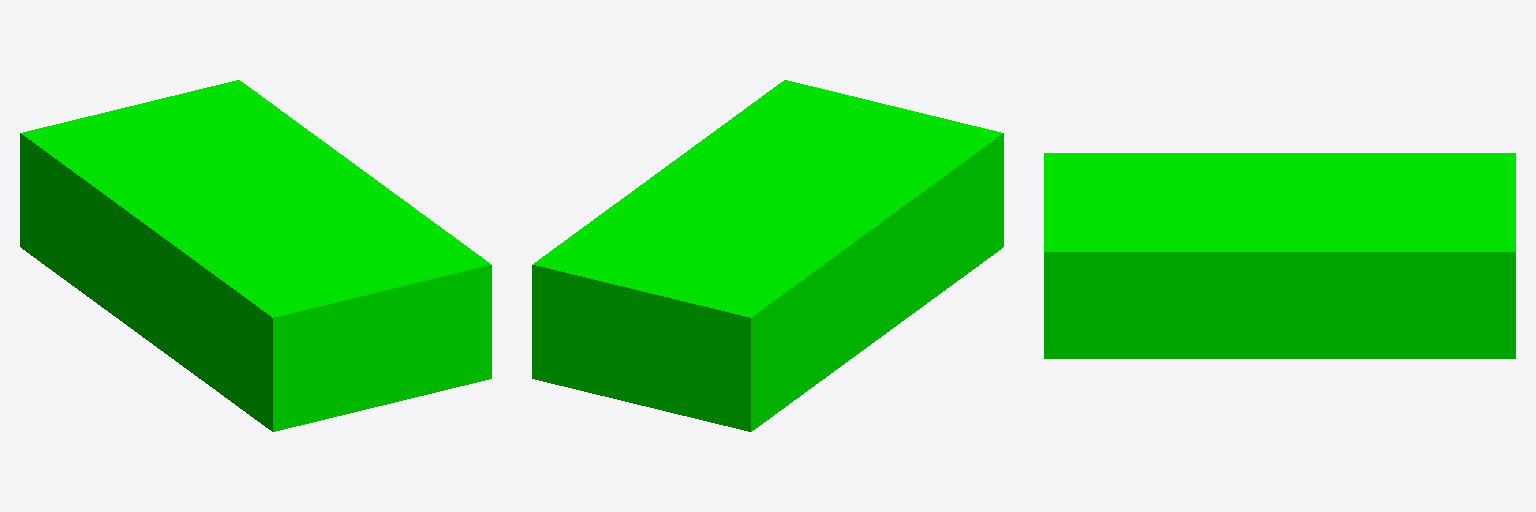
robot.urdf — UNNAMED_77:
<?xml version="1.0"?>
<robot  name="UNNAMED_77" >
 <link  name="object_b" >
  <inertial >
   <origin  rpy="0 0 0"  xyz="0.004185442037257445 -0.017981583110560452 -0.0034738702269817246" />
   <mass  value="1.0" />
   <inertia  iyy="0.001"  ixz="0"  ixy="0"  iyz="0"  ixx="0.001"  izz="0.001" />
  </inertial>
  <collision >
   <origin  rpy="0 0 0"  xyz="0 0 0" />
   <geometry >
    <box  size="0.02 0.04 0.01" />
   </geometry>
  </collision>
  <visual >
   <origin  rpy="0 0 0"  xyz="0 0 0" />
   <geometry >
    <box  size="0.02 0.04 0.01" />
   </geometry>
   <material  name="color" >
    <color  rgba="0.0 1.0 0.0 1.0" />
   </material>
  </visual>
 </link>
</robot>

--- Render facts (derived) ---
The picture shows the robot from 3 angles, left to right: view 1: azimuth 30°, elevation 25°; view 2: azimuth 150°, elevation 25°; view 3: azimuth 270°, elevation 25°; orthographic projection.
Robot: UNNAMED_77 — 1 links, 0 joints (none); root link object_b; default pose: all joints at 0.
Visible links, largest first — view 1: object_b; view 2: object_b; view 3: object_b.
Boxes of the visible links, x1,y1,x2,y2 form: object_b: (20, 80, 491, 431); object_b: (532, 80, 1003, 431); object_b: (1044, 153, 1515, 358).
Bounding box of the posed robot: 0.02 × 0.04 × 0.01 m (x, y, z).
Geometry: primitives only (box / cylinder / sphere), no mesh files.